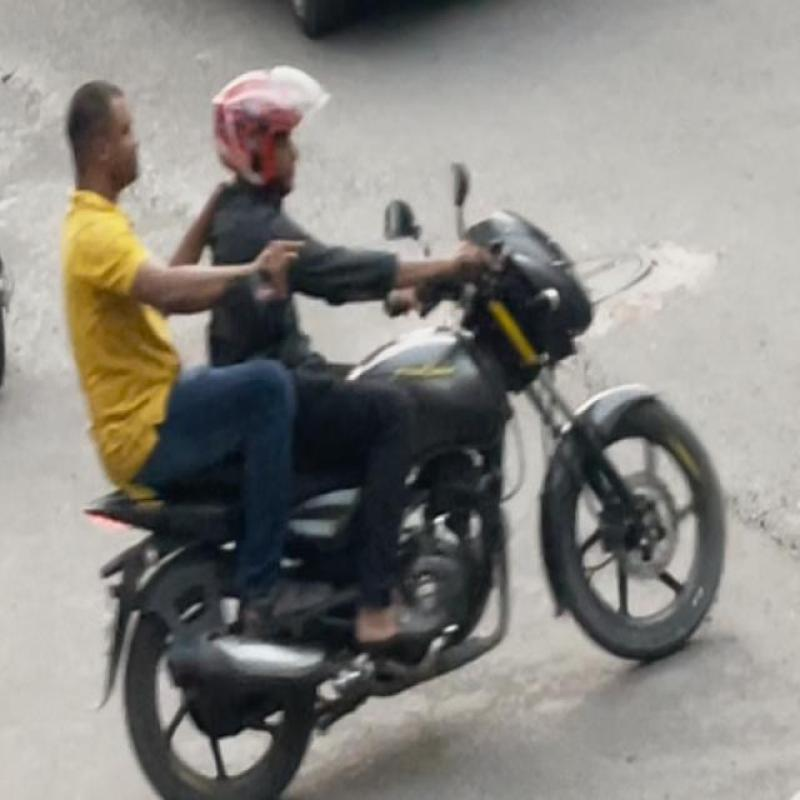nohelmet: (49, 78, 162, 212)
